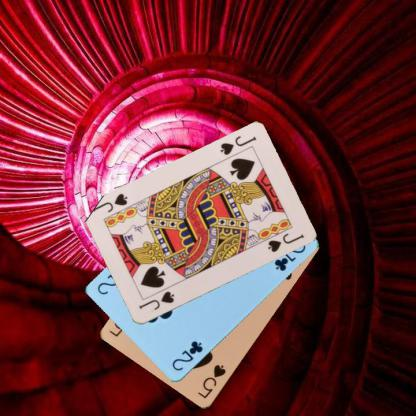2c: (169, 338, 205, 372)
5s: (194, 362, 228, 400)
Js: (217, 134, 258, 157), (136, 289, 176, 311)
